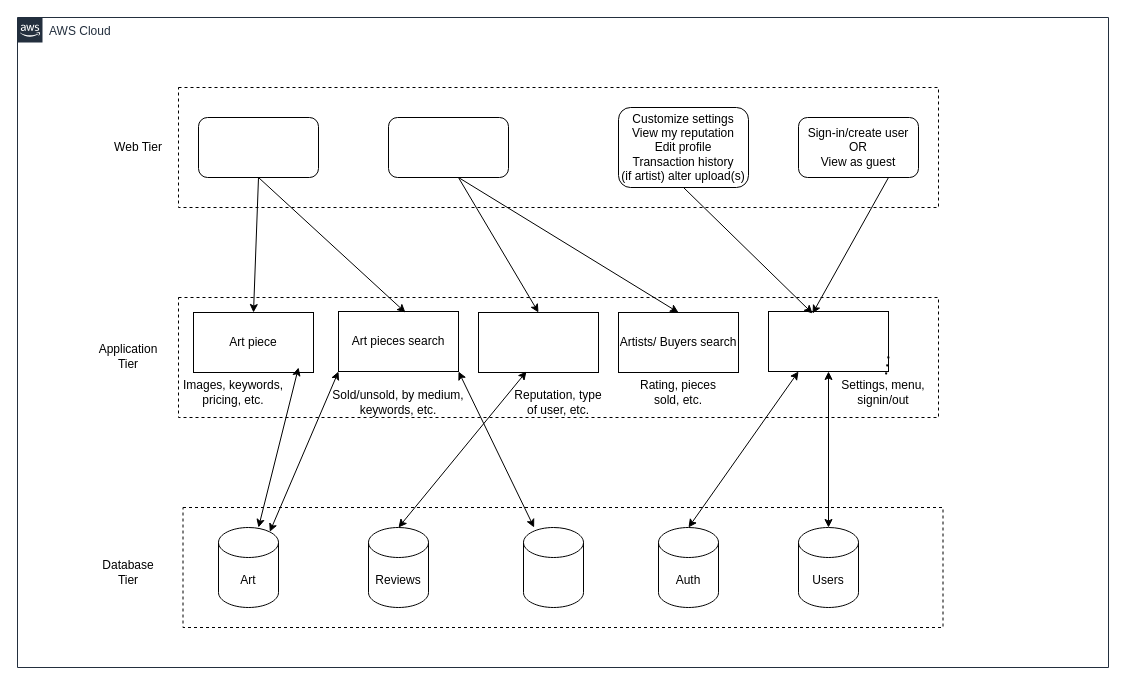
Image size: 1126x685. Some labels were removed from this diagram. The centre of each missing label's shape, as x and y in pixels:
"Artists/Buyers" goes at point 538,342.
"Bid on art piece View art details Read reviews Rate this artist" goes at point 258,147.
"Sales" goes at point 553,567.
"User info" goes at point 828,341.
"View artists View buyers Select search boxes (if artist) upload art" goes at point 448,147.
